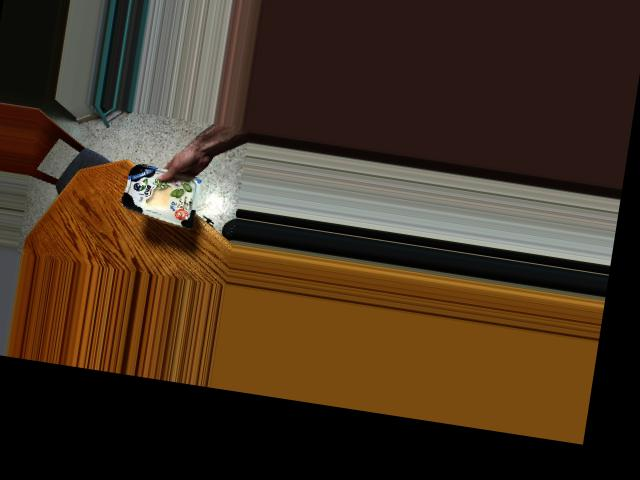cheese: (121, 153, 204, 230)
